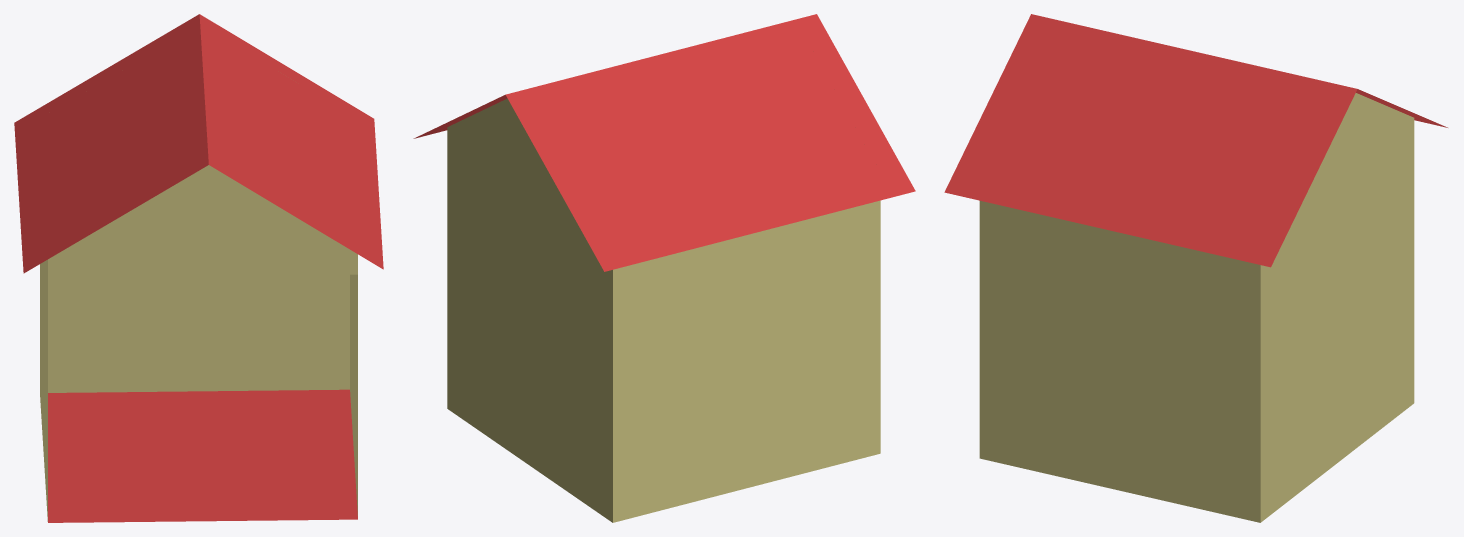
3 renders of one model, left to right at view 1: azimuth 30°, elevation 25°; view 2: azimuth 150°, elevation 25°; view 3: azimuth 270°, elevation 25°, orthographic. The views are drawn at different scales.
Bounding box in the file's own units: 9.76 × 9.74 × 8.11.
